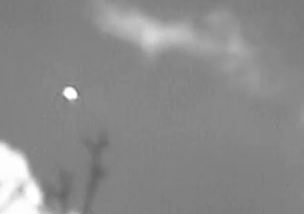Target: (64, 88, 77, 100)
